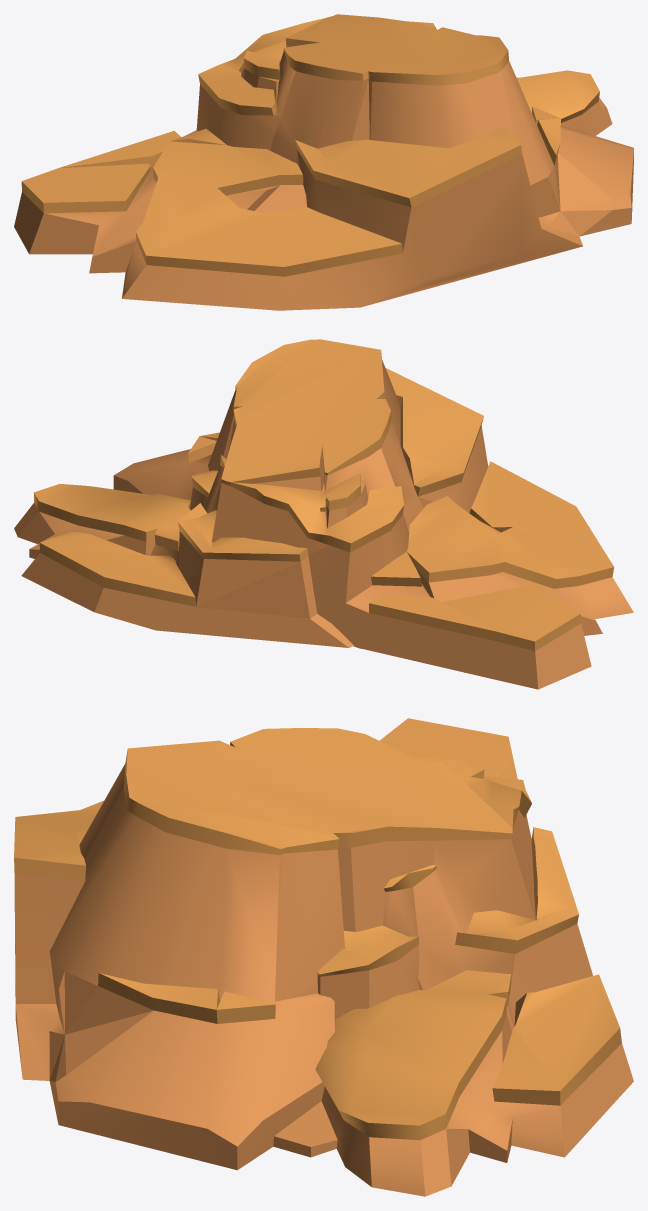
The model's file is Rock_7.fbx.
3 renders of one model, top to bottom at view 1: azimuth 30°, elevation 25°; view 2: azimuth 150°, elevation 25°; view 3: azimuth 270°, elevation 25°, orthographic. The views are drawn at different scales.
Visible parts, largest first — view 1: Rock_7, Rock_7_Snow; view 2: Rock_7_Snow, Rock_7; view 3: Rock_7, Rock_7_Snow.
Boxes of the visible parts, bbox=[...] form: Rock_7: bbox=[14, 51, 633, 310]; Rock_7_Snow: bbox=[21, 14, 599, 276]; Rock_7_Snow: bbox=[33, 339, 614, 651]; Rock_7: bbox=[14, 360, 633, 689]; Rock_7: bbox=[14, 764, 633, 1196]; Rock_7_Snow: bbox=[14, 718, 621, 1140].
Size of the model in its own units: 1091 by 318 by 686.
